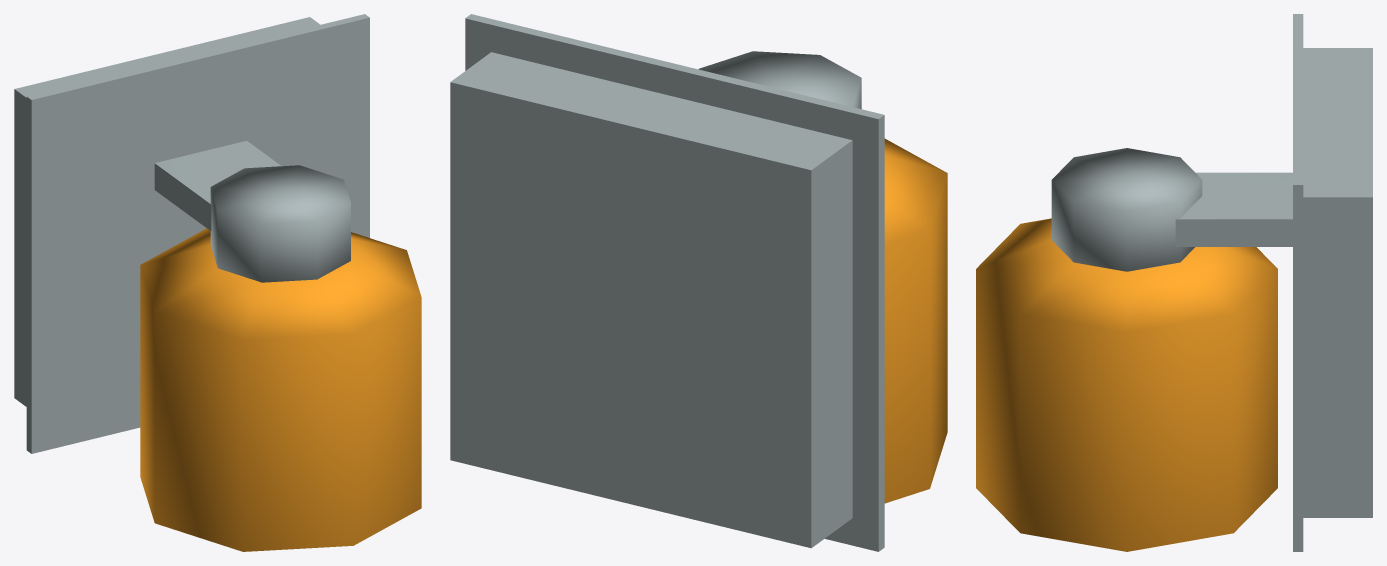
Rendered from Wall Lamp 1.fbx.
3 views of the same model, side by side, from view 1: azimuth 30°, elevation 25°; view 2: azimuth 150°, elevation 25°; view 3: azimuth 270°, elevation 25° (orthographic). The views are drawn at different scales.
Visible parts, largest first — view 1: Wall_Lamp_1; view 2: Wall_Lamp_1; view 3: Wall_Lamp_1.
Part boxes in pixels (left/top/right/bottom): Wall_Lamp_1: left=14, top=14, right=421, bottom=551; Wall_Lamp_1: left=450, top=14, right=947, bottom=551; Wall_Lamp_1: left=976, top=14, right=1372, bottom=551.
Size of the model in its own units: 56.8 by 64.67 by 55.68.
